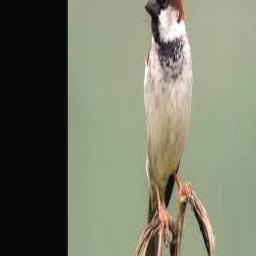Sparrow: (143, 0, 193, 256)
